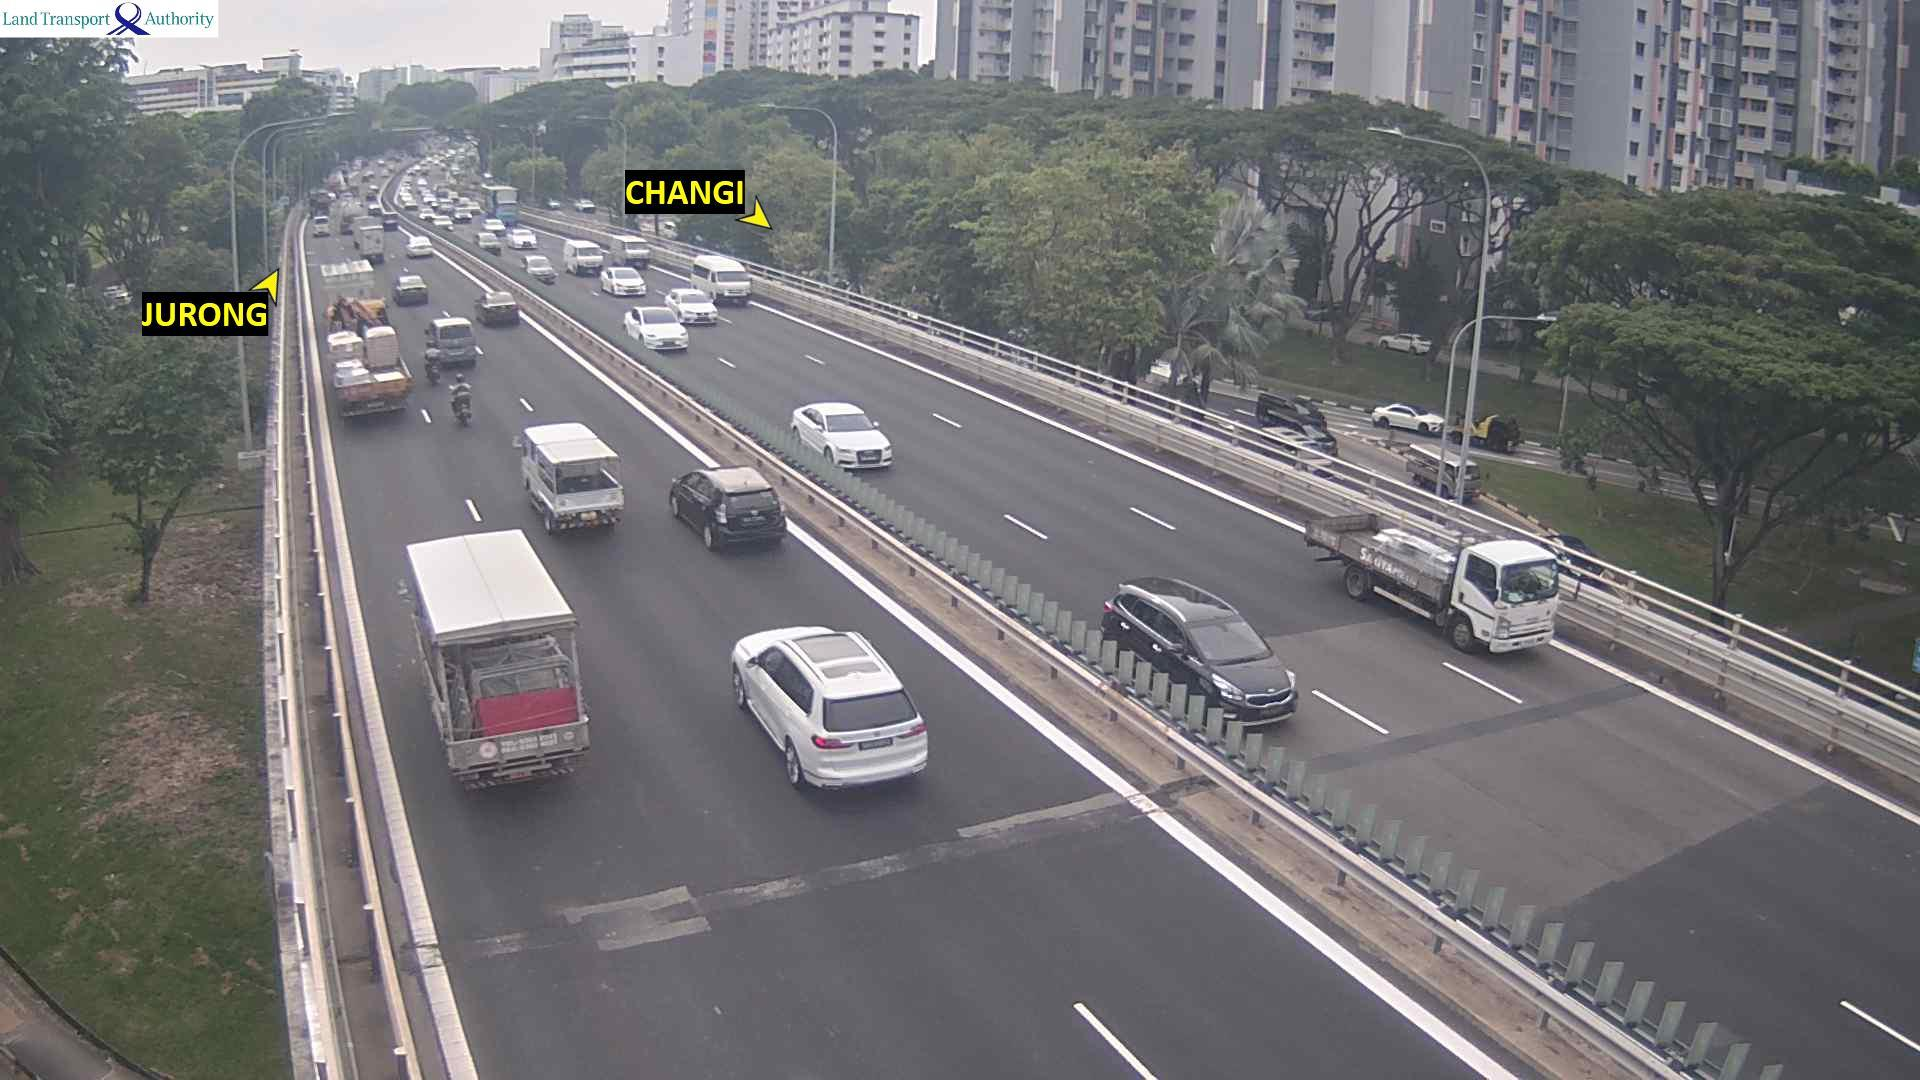cars: (729, 622, 928, 791), (1098, 575, 1298, 724), (669, 464, 786, 550), (789, 400, 893, 469), (1404, 439, 1493, 510), (1247, 429, 1336, 481), (1263, 407, 1338, 455), (1255, 386, 1328, 435), (423, 314, 483, 367), (621, 305, 688, 351), (1449, 410, 1522, 452), (1539, 530, 1600, 578), (1371, 402, 1444, 435), (665, 286, 717, 324), (608, 232, 651, 270), (562, 237, 604, 276), (473, 289, 518, 324), (597, 264, 646, 295), (1149, 355, 1193, 385), (392, 272, 427, 305), (521, 253, 556, 284), (102, 281, 131, 307), (506, 224, 537, 249), (404, 233, 433, 257), (475, 229, 501, 253), (481, 216, 509, 239), (380, 208, 404, 233), (451, 204, 475, 225), (310, 214, 328, 236), (434, 214, 454, 233), (418, 206, 439, 222), (659, 218, 676, 236), (574, 196, 593, 212), (367, 200, 384, 218), (439, 198, 456, 215), (402, 199, 421, 214), (465, 202, 483, 215), (365, 190, 381, 203), (422, 193, 439, 204), (546, 196, 560, 208), (458, 196, 472, 207)
motorcycle: (447, 375, 473, 426), (422, 338, 444, 389)
trucks: (404, 527, 591, 793), (1303, 509, 1560, 655), (320, 287, 418, 422), (512, 419, 624, 534), (315, 256, 384, 314), (688, 253, 752, 305), (479, 186, 530, 229), (351, 216, 390, 268), (338, 195, 368, 239), (1377, 331, 1432, 355), (305, 186, 332, 222)
